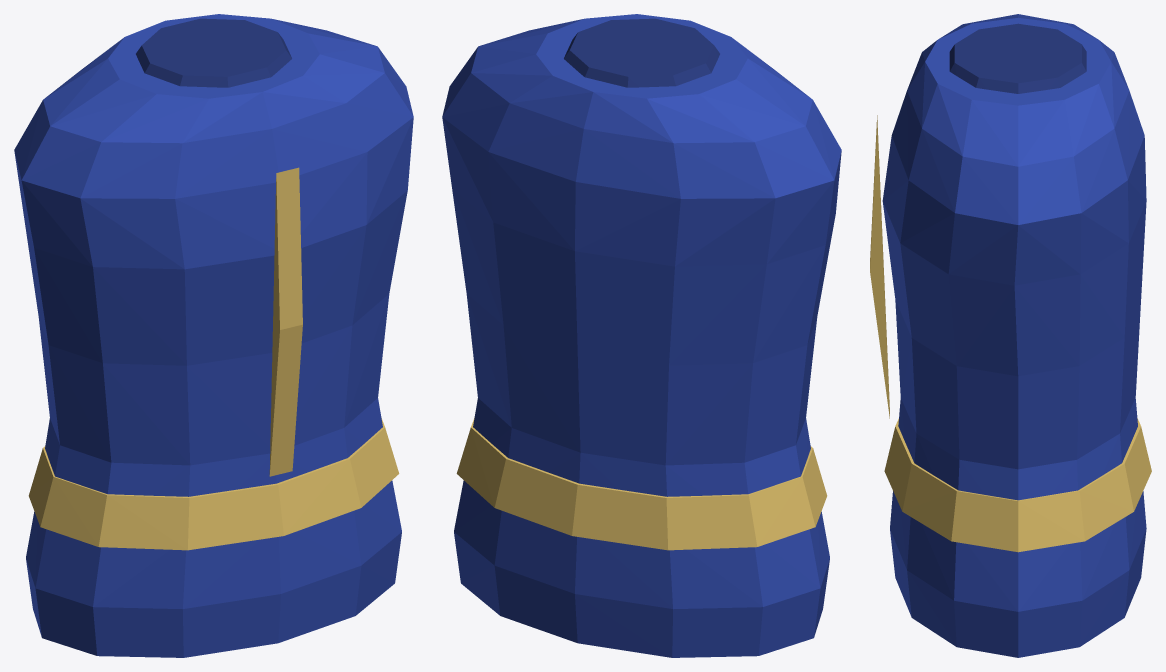
Rendered from gear_wizard_robe_torso_m.glb.
3 renders of one model, left to right at view 1: azimuth 30°, elevation 25°; view 2: azimuth 150°, elevation 25°; view 3: azimuth 270°, elevation 25°, orthographic. The views are drawn at different scales.
Parts seen in each view (by area): view 1: gear_wizard_robe_torso_m; view 2: gear_wizard_robe_torso_m; view 3: gear_wizard_robe_torso_m.
Boxes of the visible parts, x1,y1,x2,y2 form: gear_wizard_robe_torso_m: (14,14,413,657); gear_wizard_robe_torso_m: (442,14,841,657); gear_wizard_robe_torso_m: (870,14,1151,657).
Size of the model in its own units: 0.47 by 0.64 by 0.312.
